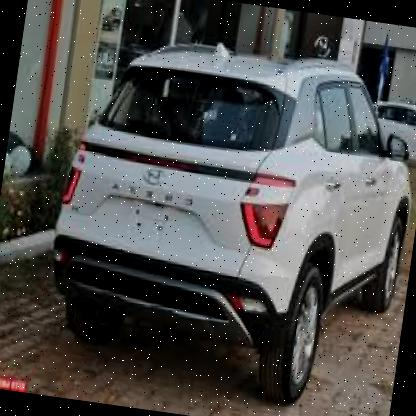car: (28, 16, 416, 416)
